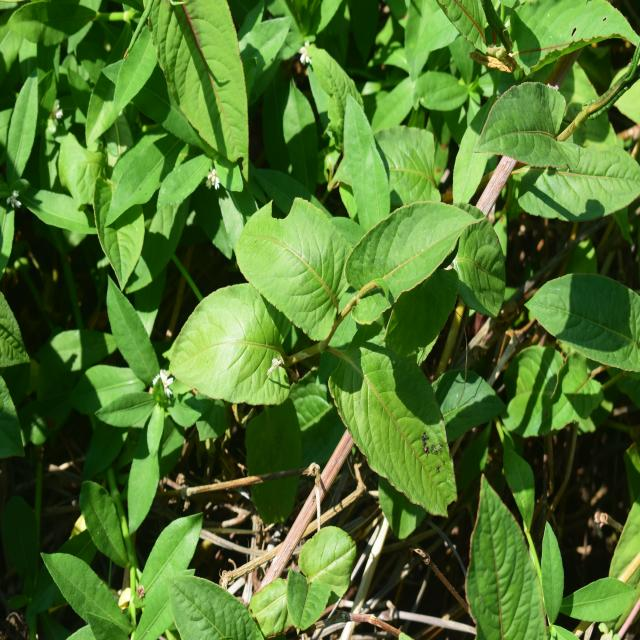Chinese_knotweed: (215, 178, 483, 566)
